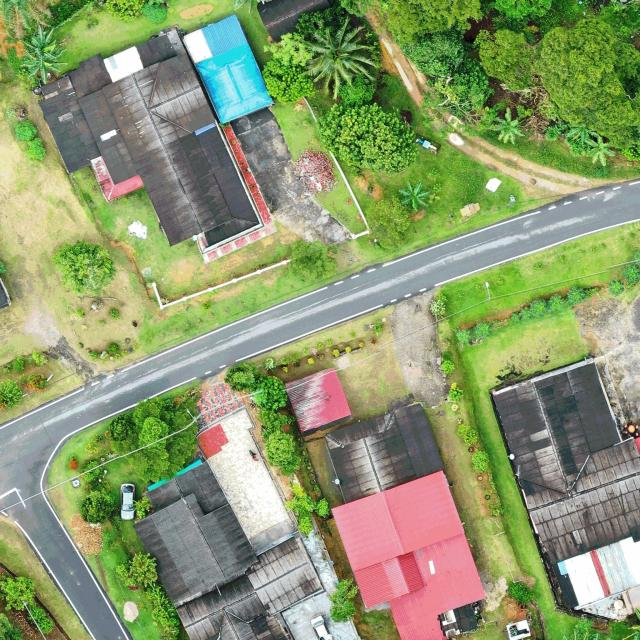Tree: (534, 17, 640, 148), (284, 14, 380, 101), (108, 395, 200, 485), (327, 100, 418, 175), (420, 57, 494, 141), (473, 28, 534, 94), (52, 238, 116, 298), (261, 58, 315, 106), (23, 26, 66, 80), (263, 31, 318, 67), (296, 6, 352, 41), (263, 428, 303, 476), (116, 550, 160, 588), (332, 72, 376, 110), (328, 578, 360, 624), (250, 374, 288, 410), (78, 490, 118, 524), (257, 407, 297, 441), (491, 107, 526, 145), (0, 574, 35, 611), (398, 179, 431, 213), (224, 361, 258, 393), (584, 136, 616, 166), (103, 0, 148, 21), (0, 379, 24, 409)
